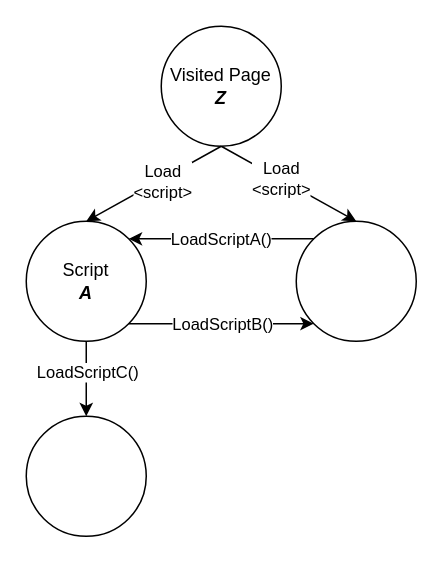
The diagram is 443 pixels wide and 563 high, and some of its shapes have lost their labels. The shapes that lost their labels are listed below. From the top down, each one's centre as x and y in pixels, then its label:
At point (355, 280): "Script B".
At point (85, 475): "Script C".
